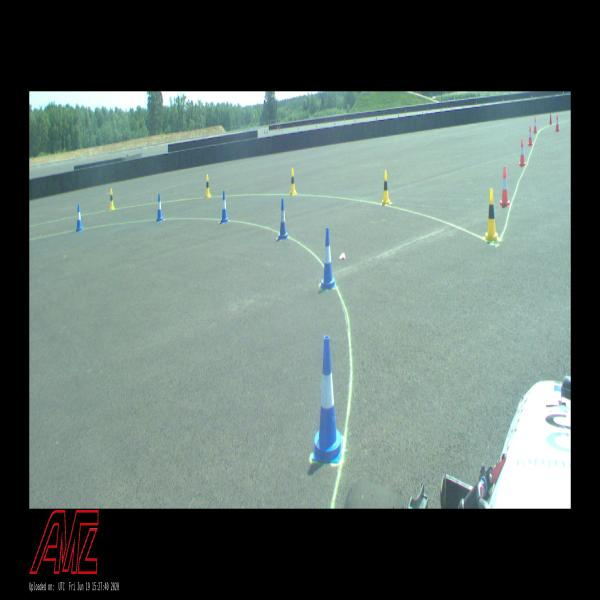blue_cone: (312, 336, 343, 462), (320, 227, 336, 290), (278, 198, 288, 240), (220, 190, 228, 224), (156, 193, 164, 221), (76, 204, 83, 231)
orange_cone: (500, 166, 510, 207), (519, 140, 526, 166), (528, 126, 533, 145), (534, 117, 538, 133), (556, 115, 560, 131)
unknown_cone: (550, 112, 552, 125)
yellow_cone: (485, 188, 498, 240), (381, 171, 390, 205), (290, 168, 296, 195), (206, 174, 211, 198), (110, 188, 115, 210)
